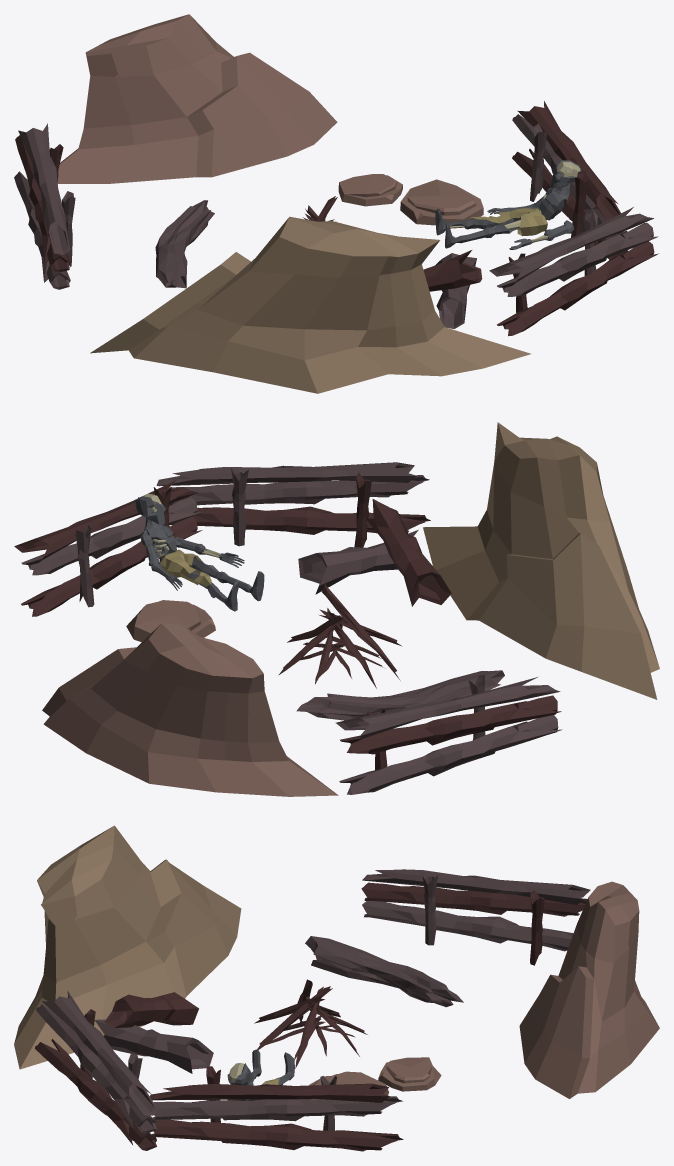
Rendered from Camp_set.fbx.
The picture shows the model from 3 angles, top to bottom: view 1: azimuth 30°, elevation 25°; view 2: azimuth 150°, elevation 25°; view 3: azimuth 270°, elevation 25°; orthographic projection. The views are drawn at different scales.
Parts seen in each view (by area): view 1: stone03.001; view 2: stone03.001; view 3: stone03.001.
Part boxes in pixels (<box>): stone03.001: <box>14,14,658,393</box>; stone03.001: <box>14,422,659,796</box>; stone03.001: <box>14,825,659,1151</box>.
Bounding box in the file's own units: 1796 × 526 × 1905.
